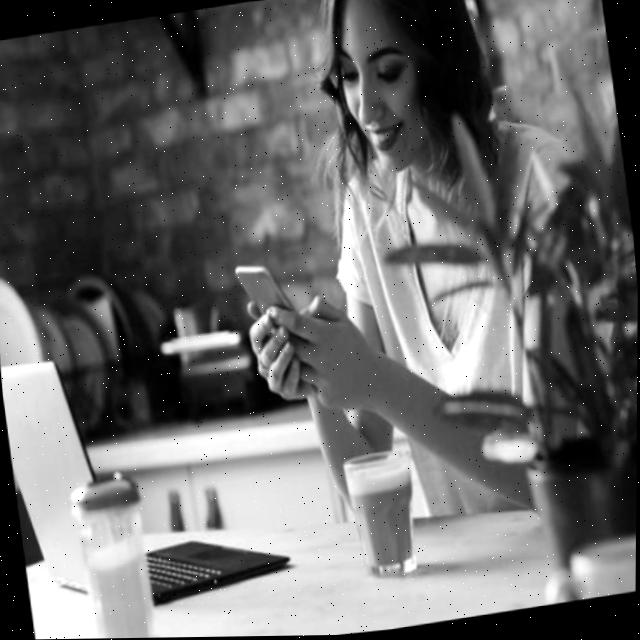phone: (234, 257, 298, 323)
